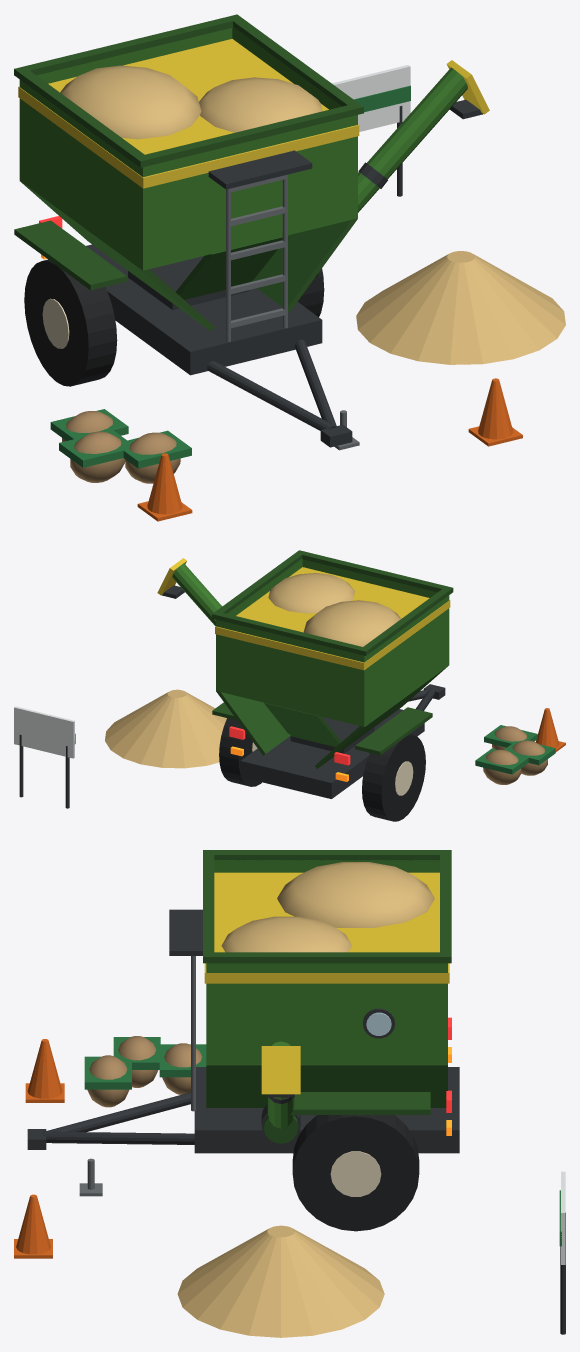
The model's file is grain_cart.glb.
3 views of the same model, one above another, from view 1: azimuth 30°, elevation 25°; view 2: azimuth 150°, elevation 25°; view 3: azimuth 270°, elevation 25° (orthographic). The views are drawn at different scales.
Visible parts, largest first — view 1: CartBody, FieldProps, UnloadAuger; view 2: CartBody, FieldProps, UnloadAuger; view 3: CartBody, FieldProps, UnloadAuger.
Boxes of the visible parts, bbox=[...] form: CartBody: bbox=[14, 14, 363, 450]; FieldProps: bbox=[50, 65, 565, 521]; UnloadAuger: bbox=[314, 60, 489, 278]; CartBody: bbox=[212, 550, 453, 821]; FieldProps: bbox=[14, 689, 565, 808]; UnloadAuger: bbox=[157, 558, 221, 625]; CartBody: bbox=[27, 850, 459, 1231]; FieldProps: bbox=[14, 1036, 565, 1337]; UnloadAuger: bbox=[261, 1041, 300, 1143].
Size of the model in its own units: 5.47 by 2.68 by 4.79.
